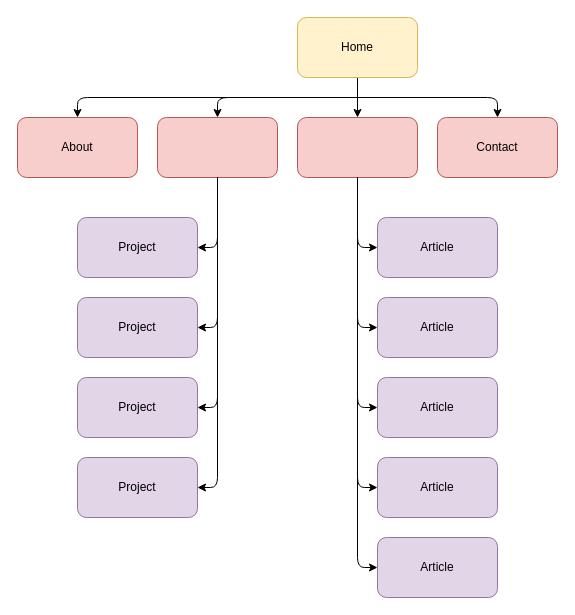
This 575x615 diagram has some shape labels left out. Each missing label, with the centre of its shape:
Blog: point (357, 147)
Portfolio: point (217, 147)
